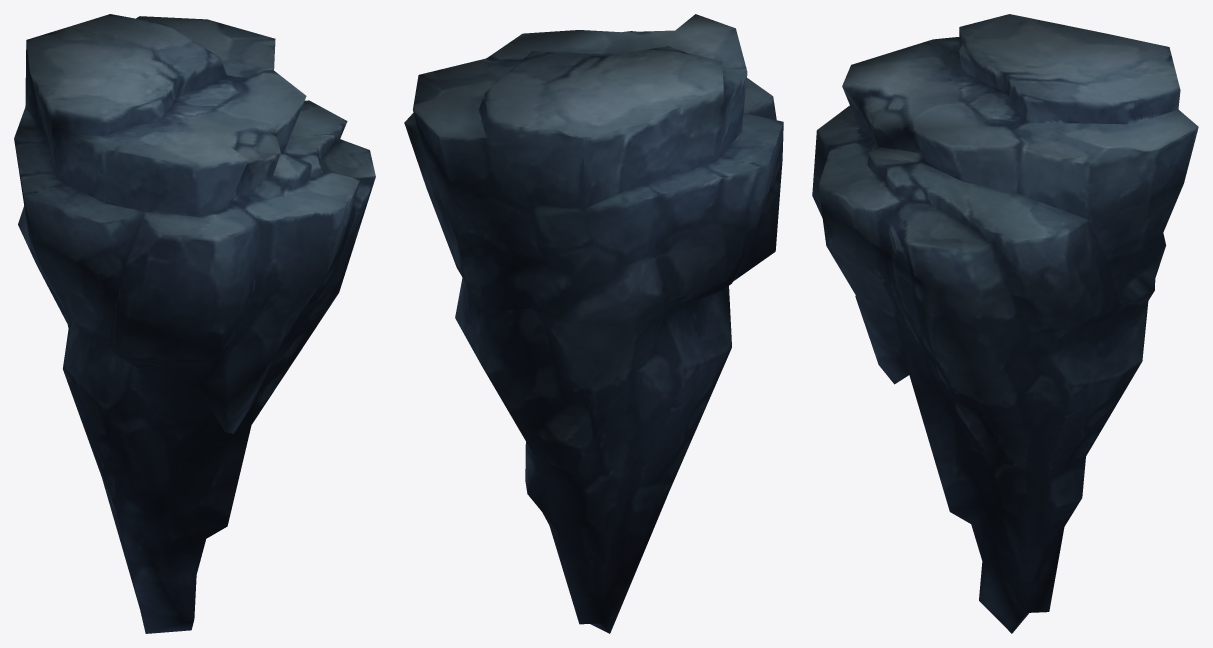
Rendered from Area_02_9.fbx.
3 views of the same model, side by side, from view 1: azimuth 30°, elevation 25°; view 2: azimuth 150°, elevation 25°; view 3: azimuth 270°, elevation 25° (orthographic). The views are drawn at different scales.
Parts seen in each view (by area): view 1: Area_02_9; view 2: Area_02_9; view 3: Area_02_9.
Part boxes in pixels (left/top/right/bottom): Area_02_9: left=14, top=14, right=375, bottom=633; Area_02_9: left=404, top=14, right=783, bottom=633; Area_02_9: left=812, top=14, right=1198, bottom=633.
Bounding box in the file's own units: 997 × 1609 × 1018.
